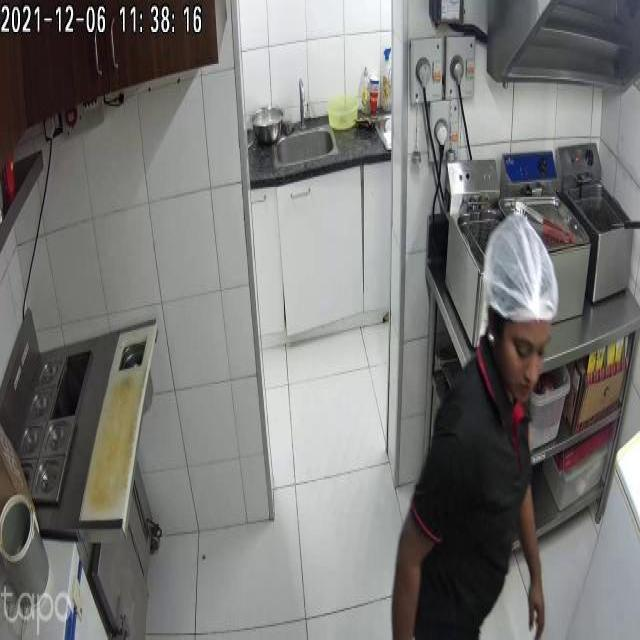bare_hand: (526, 556, 560, 637)
